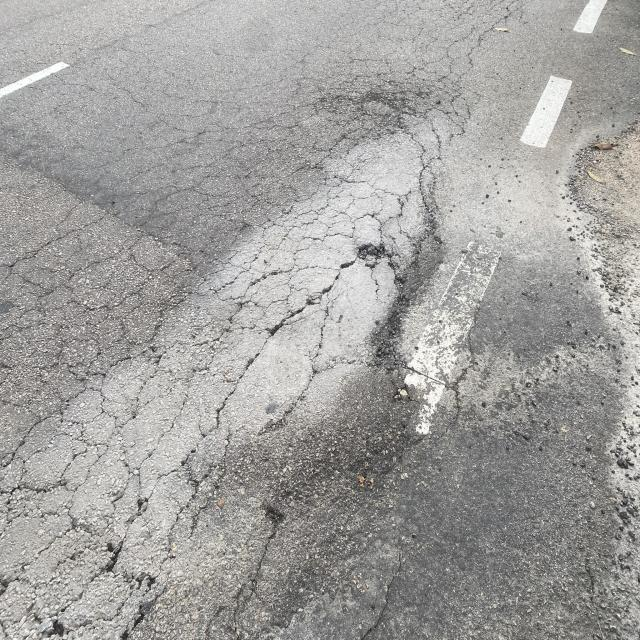pothole: (234, 107, 465, 539)
